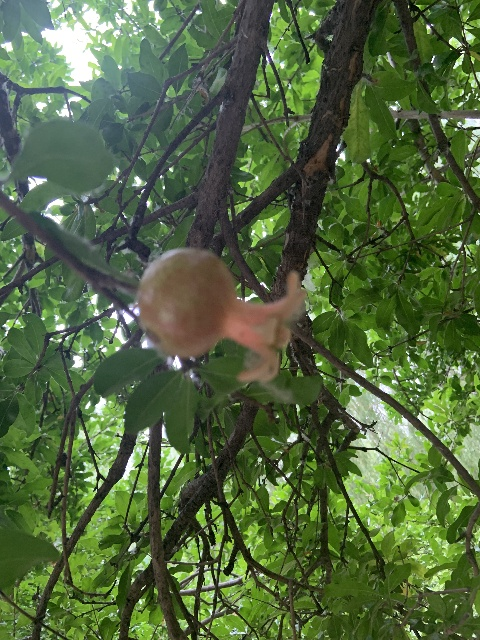early-fruit: (137, 248, 305, 384)
